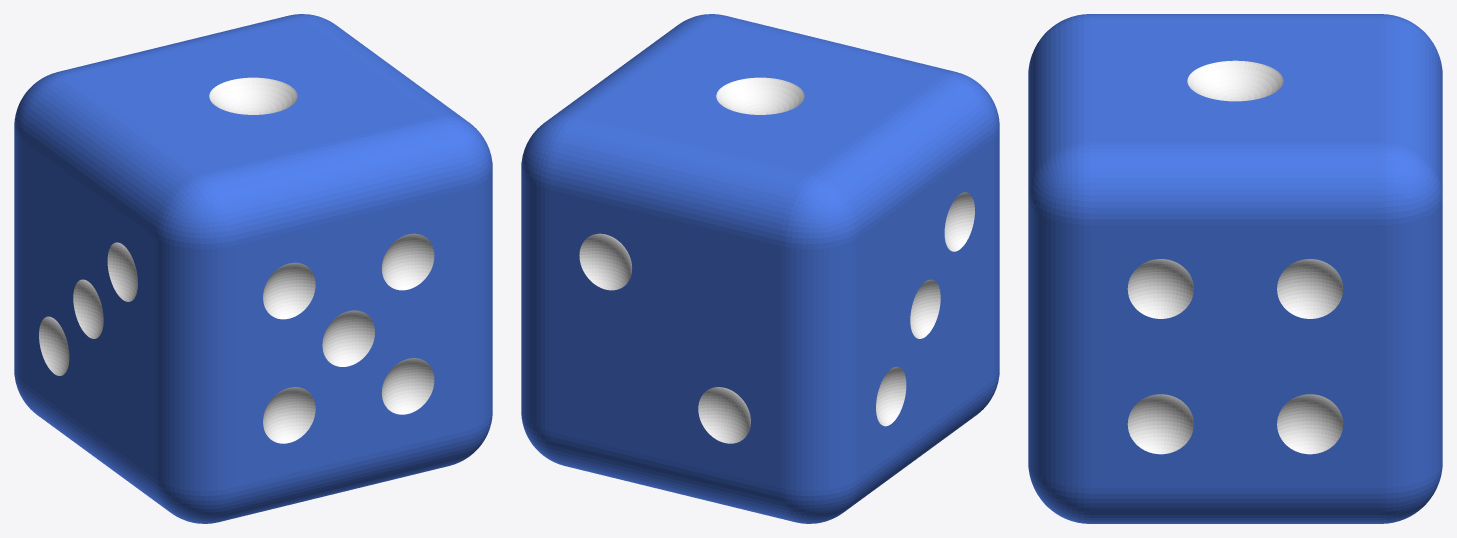
The picture shows the model from 3 angles, left to right: view 1: azimuth 30°, elevation 25°; view 2: azimuth 150°, elevation 25°; view 3: azimuth 270°, elevation 25°; orthographic projection. The views are drawn at different scales.
Visible parts, largest first — view 1: 立方體.001; view 2: 立方體.001; view 3: 立方體.001.
Part boxes in pixels (x1,y1,x2,y2): 立方體.001: (14,14,492,523); 立方體.001: (521,14,999,523); 立方體.001: (1028,14,1442,523).
Bounding box in the file's own units: 1 × 1 × 1.
